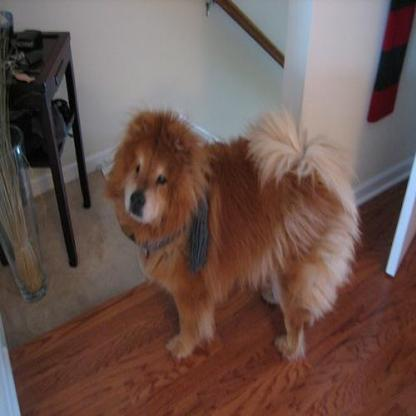chow: (101, 98, 358, 360)
